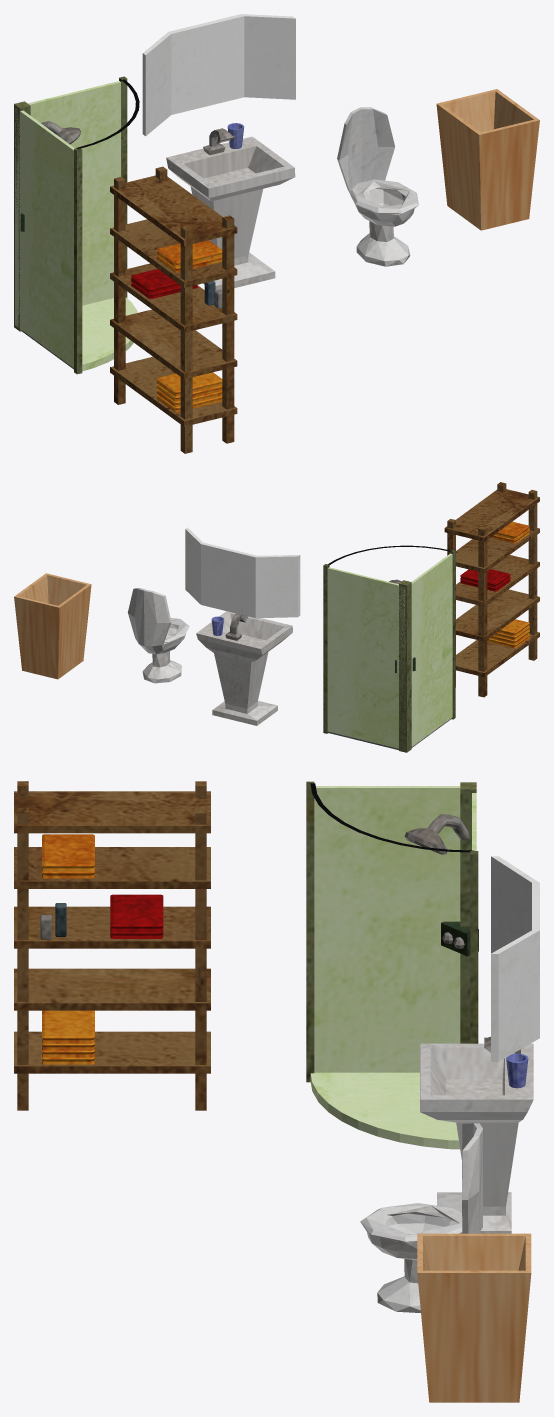
File: Bad_low.fbx
3 views of the same model, one above another, from view 1: azimuth 30°, elevation 25°; view 2: azimuth 150°, elevation 25°; view 3: azimuth 270°, elevation 25° (orthographic). The views are drawn at different scales.
Parts seen in each view (by area): view 1: Regal; view 2: Regal; view 3: Regal.
Part boxes in pixels (left/top/right/bottom): Regal: left=14, top=14, right=539, bottom=453; Regal: left=14, top=482, right=539, bottom=752; Regal: left=14, top=781, right=539, bottom=1402.
Size of the model in its own units: 476 by 210 by 321.
